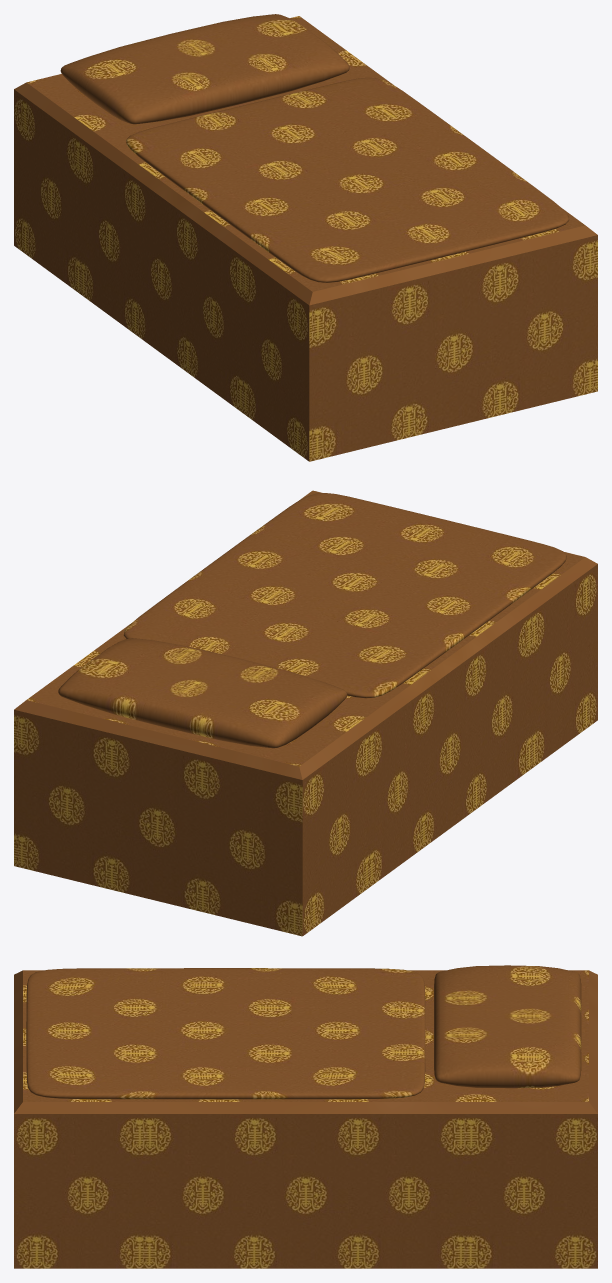
File: bed.fbx
3 renders of one model, top to bottom at view 1: azimuth 30°, elevation 25°; view 2: azimuth 150°, elevation 25°; view 3: azimuth 270°, elevation 25°, orthographic.
Visible parts, largest first — view 1: bed1, Quilt, Pillows; view 2: bed1, Quilt, Pillows; view 3: bed1, Quilt, Pillows.
Boxes of the visible parts, <box> form: bed1: <box>14,16,597,461</box>; Quilt: <box>126,77,569,282</box>; Pillows: <box>60,14,349,124</box>; bed1: <box>14,490,597,936</box>; Quilt: <box>123,493,566,698</box>; Pillows: <box>58,638,347,748</box>; bed1: <box>14,970,597,1268</box>; Quilt: <box>26,968,425,1099</box>; Pillows: <box>434,965,581,1088</box>.
Size of the model in its own units: 1.03 by 0.6345 by 1.82.
1 material, 1 textured.
